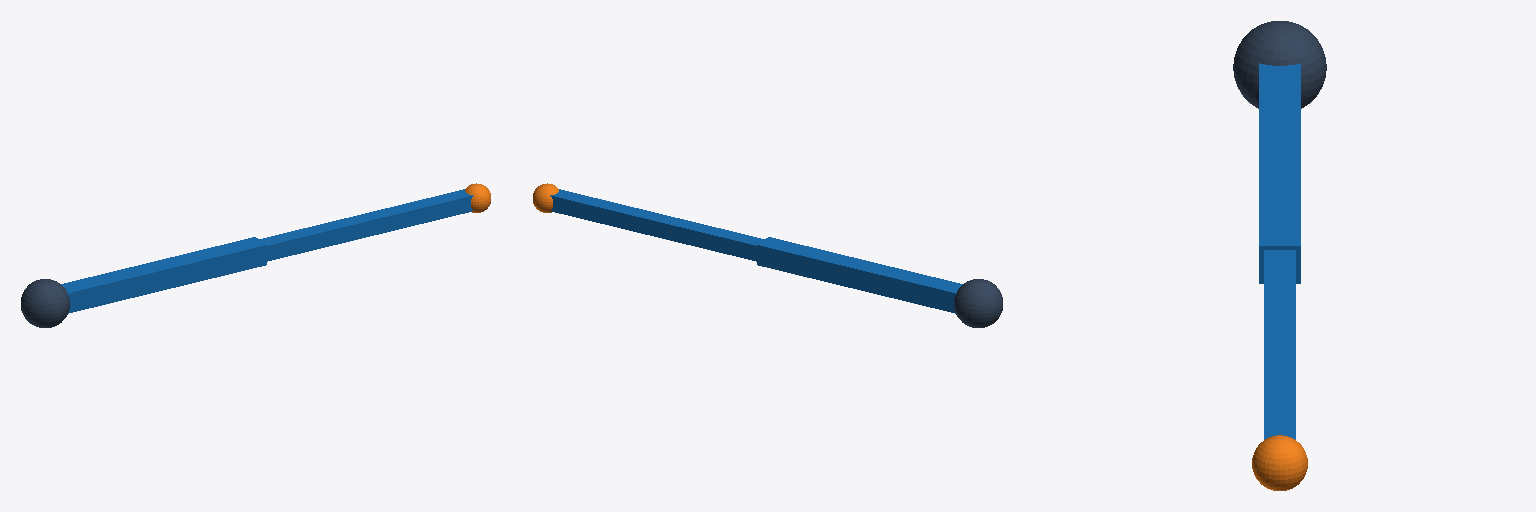
The robot description file, URDF, robot "planar_arm":
<?xml version="1.0"?>
<robot name="planar_arm">
  <link name="base">
    <visual><geometry><sphere radius="0.10"/></geometry><material name="base_color"><color rgba="0.25 0.31 0.39 1"/></material></visual>
  </link>
  <link name="link1">
    <visual><origin xyz="0.5 0 0"/><geometry><box size="1 0.09 0.09"/></geometry><material name="arm_color"><color rgba="0.13 0.47 0.74 1"/></material></visual>
  </link>
  <link name="link2">
    <visual><origin xyz="0.5 0 0"/><geometry><box size="1 0.07 0.07"/></geometry><material name="arm_color"/></visual>
  </link>
  <link name="tool">
    <visual><geometry><sphere radius="0.06"/></geometry><material name="tool_color"><color rgba="0.95 0.53 0.15 1"/></material></visual>
  </link>
  <joint name="shoulder" type="revolute">
    <parent link="base"/><child link="link1"/><axis xyz="0 0 1"/>
    <limit lower="-3.14" upper="3.14" effort="10" velocity="2"/>
  </joint>
  <joint name="elbow" type="revolute">
    <parent link="link1"/><child link="link2"/><origin xyz="1 0 0"/><axis xyz="0 0 1"/>
    <limit lower="-3.14" upper="3.14" effort="10" velocity="2"/>
  </joint>
  <joint name="tool_fixed" type="fixed">
    <parent link="link2"/><child link="tool"/><origin xyz="1 0 0"/>
  </joint>
</robot>

--- Render facts (derived) ---
3 views of the same robot in one strip: view 1: azimuth 30°, elevation 25°; view 2: azimuth 150°, elevation 25°; view 3: azimuth 270°, elevation 25° (orthographic).
Robot: planar_arm — 4 links, 3 joints (2 revolute, 1 fixed); root link base; default pose: all joints at 0.
Links seen in each view (by area): view 1: link1, link2, base, tool; view 2: link1, link2, base, tool; view 3: link1, link2, base, tool.
Link boxes in pixels (x1,y1,x2,y2): link1: (61,237,266,313); link2: (259,189,473,261); base: (21,279,69,327); tool: (465,183,490,212); link1: (757,237,962,313); link2: (550,189,764,261); base: (954,279,1002,327); tool: (533,183,558,212); link1: (1259,63,1300,283); link2: (1264,250,1295,439); base: (1233,21,1326,108); tool: (1252,435,1307,490).
Bounding box of the posed robot: 2.16 × 0.2 × 0.2 m (x, y, z).
Geometry: primitives only (box / cylinder / sphere), no mesh files.
